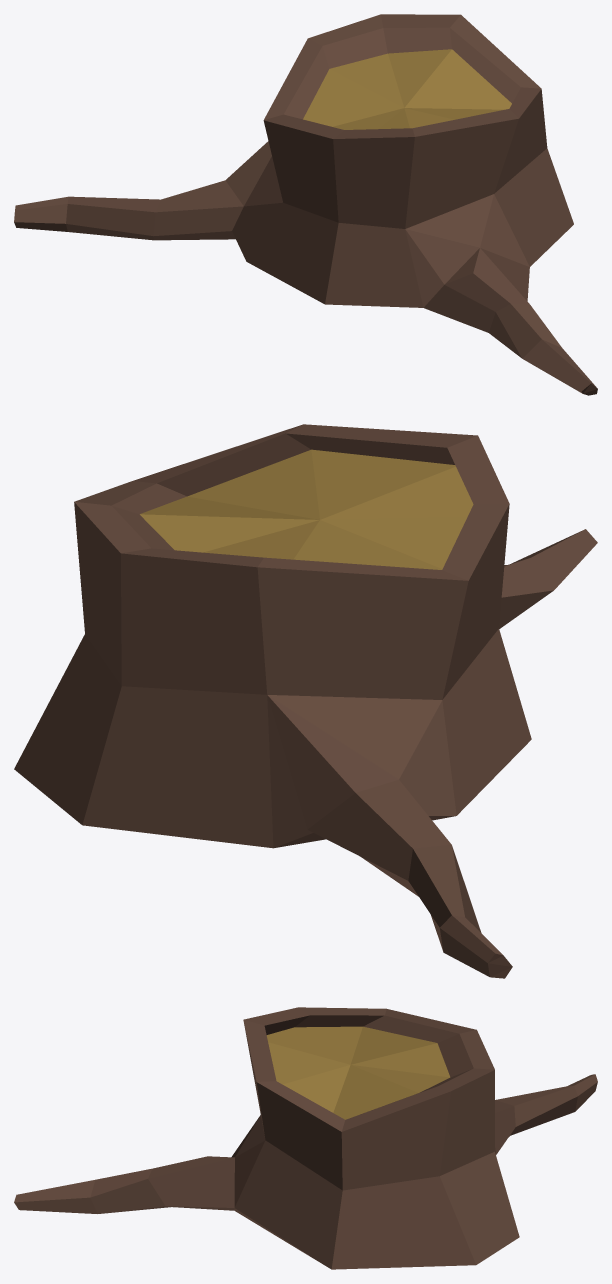
The model's file is tree-stump.fbx.
3 views of the same model, one above another, from view 1: azimuth 30°, elevation 25°; view 2: azimuth 150°, elevation 25°; view 3: azimuth 270°, elevation 25° (orthographic). The views are drawn at different scales.
Parts seen in each view (by area): view 1: TreeStump; view 2: TreeStump; view 3: TreeStump.
Part boxes in pixels (x1=…): TreeStump: x1=14, y1=14, x2=597, y2=395; TreeStump: x1=14, y1=424, x2=597, y2=978; TreeStump: x1=14, y1=1007, x2=597, y2=1269.
Size of the model in its own units: 1.46 by 0.618 by 1.94.
